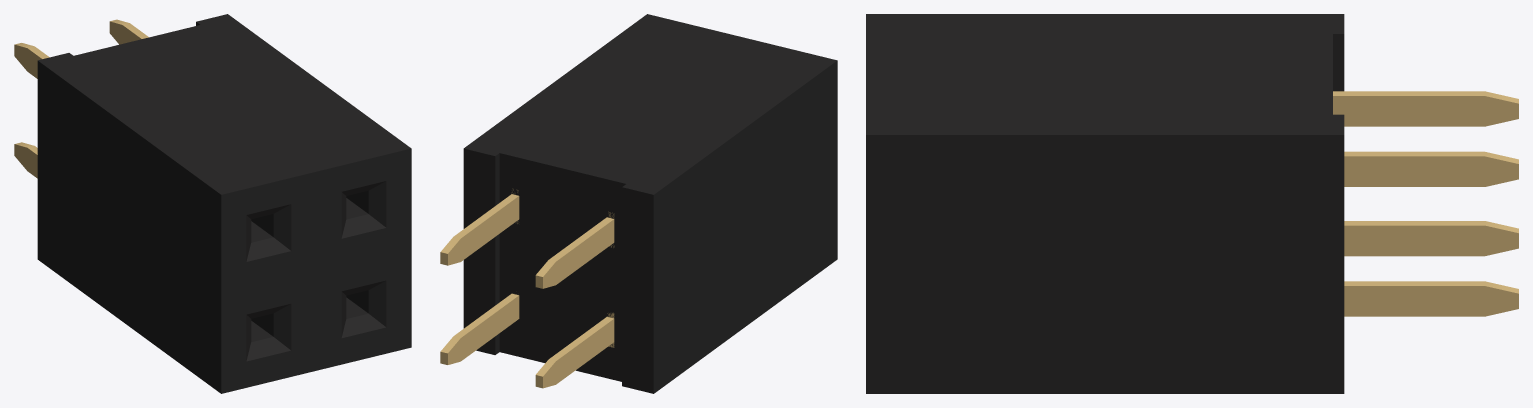
The model's file is socket-2x02.glb.
3 renders of one model, left to right at view 1: azimuth 30°, elevation 25°; view 2: azimuth 150°, elevation 25°; view 3: azimuth 270°, elevation 25°, orthographic. The views are drawn at different scales.
Parts seen in each view (by area): view 1: IC-BODY-EPOXY-04, PIN-02; view 2: IC-BODY-EPOXY-04, PIN-02; view 3: IC-BODY-EPOXY-04, PIN-02.
Boxes of the visible parts, box(x1,y1,x2,y2) form: IC-BODY-EPOXY-04: box(37, 14, 411, 393); PIN-02: box(14, 19, 148, 178); IC-BODY-EPOXY-04: box(463, 14, 837, 393); PIN-02: box(440, 188, 614, 388); IC-BODY-EPOXY-04: box(866, 14, 1344, 393); PIN-02: box(1333, 91, 1518, 316).
Bounding box in the file's own units: 5.08 × 5.08 × 11.6.
